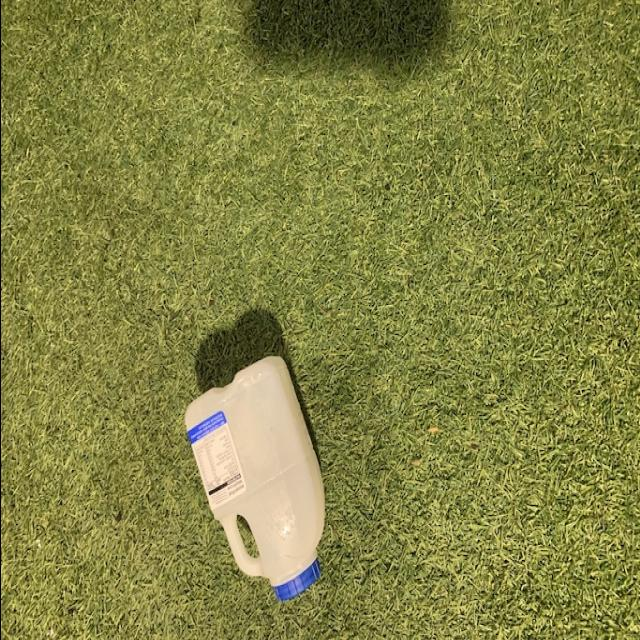HDPEM: (180, 351, 322, 599)
